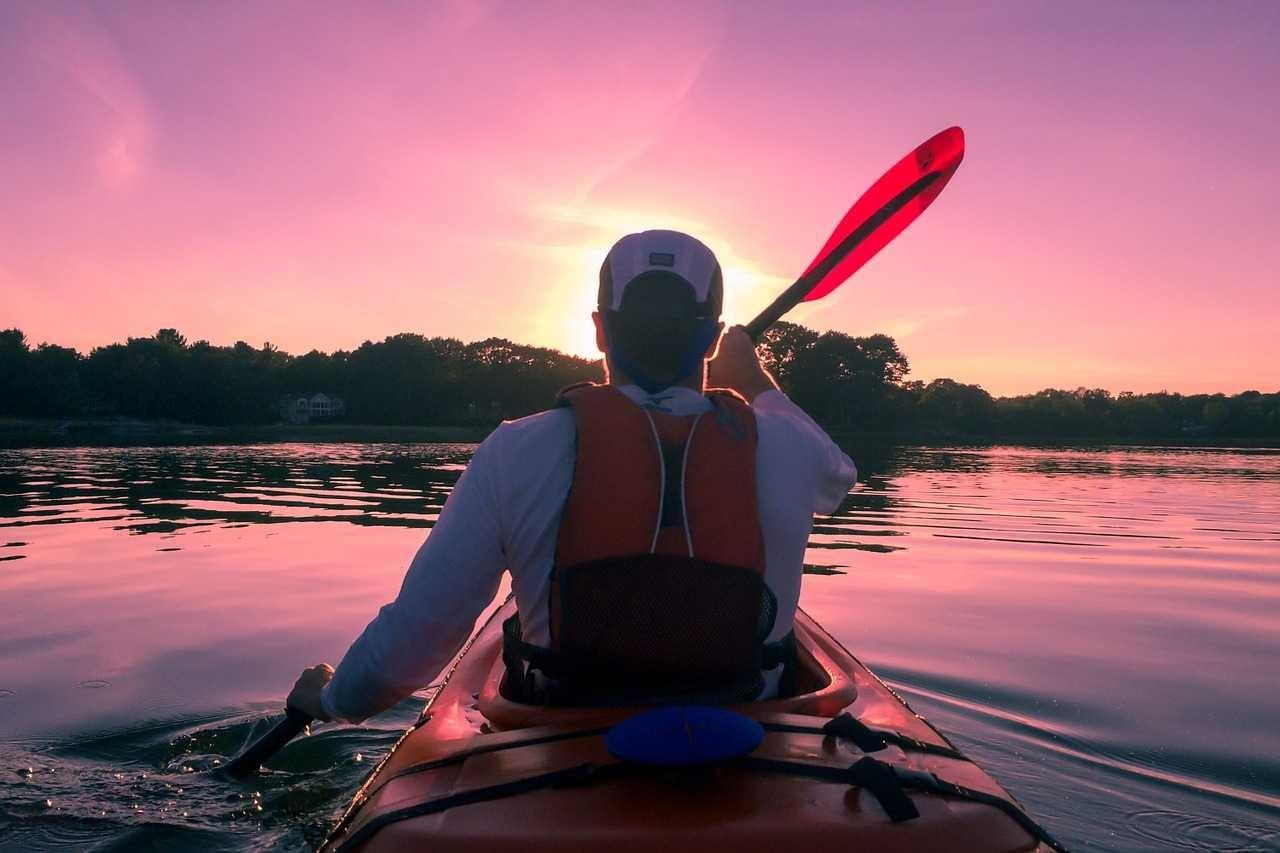kayak: (318, 597, 1060, 846)
